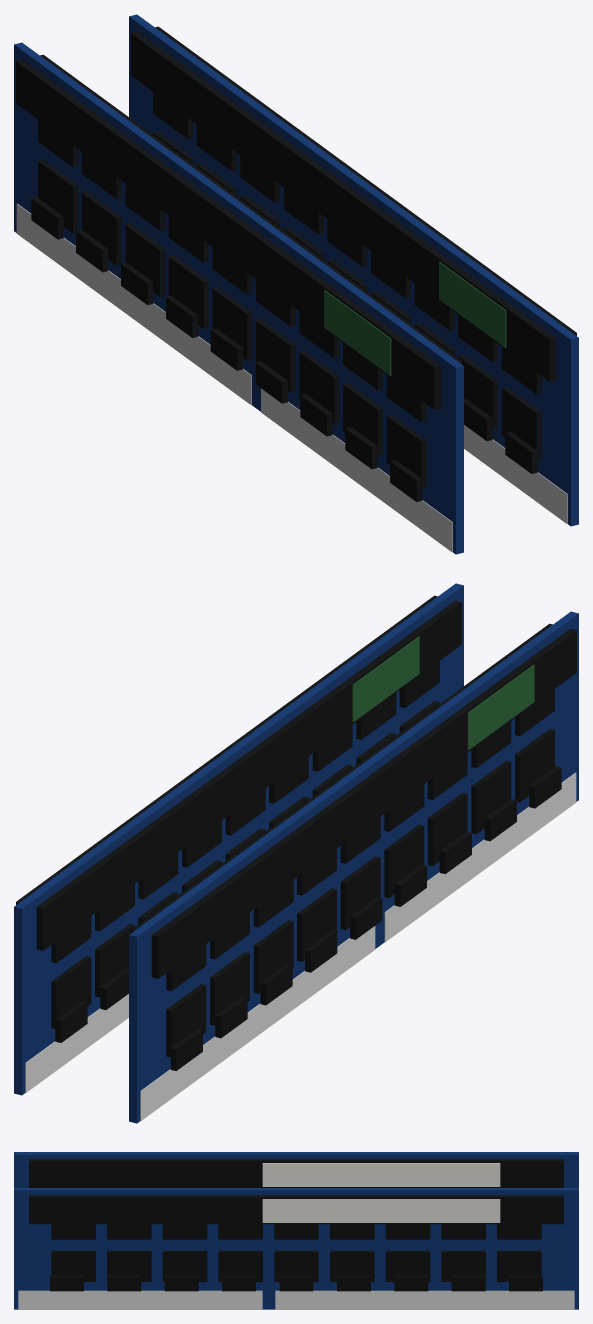
The model's file is hw_ram_ddr4_192gb.glb.
3 views of the same model, one above another, from view 1: azimuth 30°, elevation 25°; view 2: azimuth 150°, elevation 25°; view 3: azimuth 270°, elevation 25° (orthographic). The views are drawn at different scales.
Parts seen in each view (by area): view 1: Stick_1, Body; view 2: Stick_1, Body; view 3: Body, Stick_1.
Boxes of the visible parts, <box> form: Stick_1: <box>14,42,463,554</box>; Body: <box>129,14,578,526</box>; Stick_1: <box>129,611,578,1123</box>; Body: <box>14,583,463,1095</box>; Body: <box>14,1188,578,1309</box>; Stick_1: <box>14,1152,578,1187</box>.
Bounding box in the file's own units: 0.0252 × 0.031 × 0.133.
